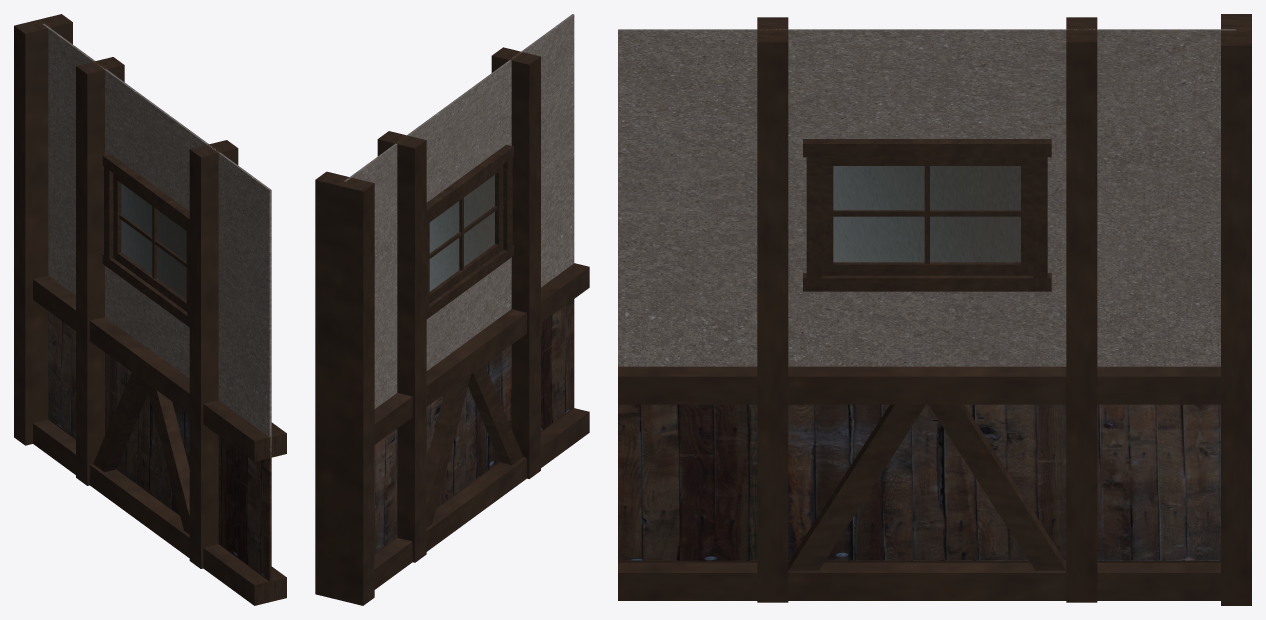
File: OutdoorArchitecture_BasicWall02_Window03_RightEdge_BShortt.fbx
The picture shows the model from 3 angles, left to right: view 1: azimuth 30°, elevation 25°; view 2: azimuth 150°, elevation 25°; view 3: azimuth 270°, elevation 25°; orthographic projection. The views are drawn at different scales.
Parts seen in each view (by area): view 1: OutdoorArchitecture_BasicWall02_Window03_RightEdge_BShortt; view 2: OutdoorArchitecture_BasicWall02_Window03_RightEdge_BShortt; view 3: OutdoorArchitecture_BasicWall02_Window03_RightEdge_BShortt.
Boxes of the visible parts, <box> form: OutdoorArchitecture_BasicWall02_Window03_RightEdge_BShortt: <box>14,14,286,605</box>; OutdoorArchitecture_BasicWall02_Window03_RightEdge_BShortt: <box>315,14,589,605</box>; OutdoorArchitecture_BasicWall02_Window03_RightEdge_BShortt: <box>618,14,1251,605</box>.
Bounding box in the file's own units: 36.37 × 300 × 308.
